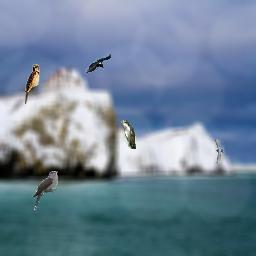Crow: (85, 53, 111, 73)
Cuckoo: (32, 171, 58, 211), (121, 120, 136, 149)
Swallow: (25, 64, 40, 104), (215, 139, 225, 163)
